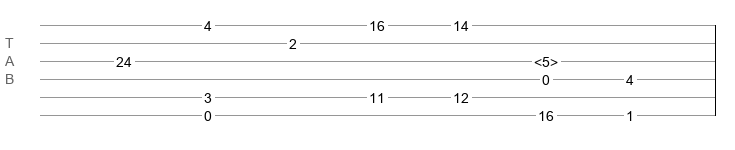0: (204, 108, 212, 118), (542, 72, 550, 82)
1: (626, 108, 634, 118)
11: (369, 90, 385, 100)
12: (453, 90, 469, 100)
14: (453, 18, 469, 28)
16: (369, 18, 385, 28), (538, 108, 554, 118)
2: (289, 36, 297, 46)
24: (116, 54, 132, 64)
3: (204, 90, 212, 100)
4: (204, 18, 212, 28), (626, 72, 634, 82)
harmonic: (534, 54, 558, 64)
